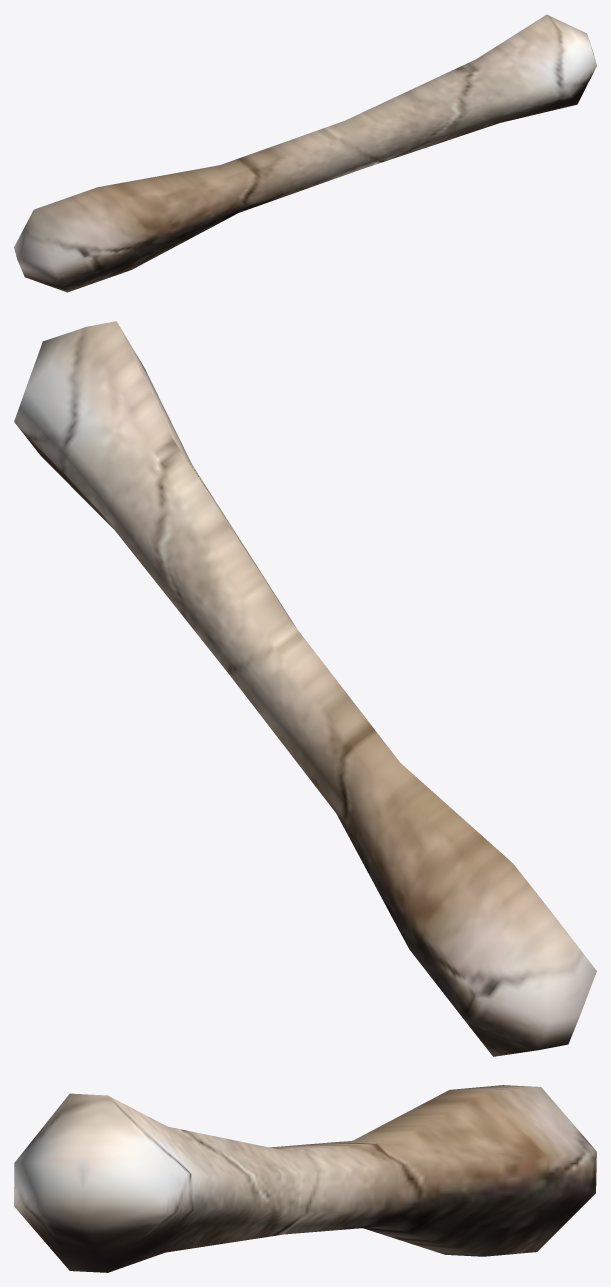
3 views of the same model, one above another, from view 1: azimuth 30°, elevation 25°; view 2: azimuth 150°, elevation 25°; view 3: azimuth 270°, elevation 25° (orthographic). The views are drawn at different scales.
Parts seen in each view (by area): view 1: model_Object31; view 2: model_Object31; view 3: model_Object31.
Boxes of the visible parts, x1=… form: model_Object31: x1=14, y1=14, x2=596, y2=292; model_Object31: x1=14, y1=321, x2=596, y2=1056; model_Object31: x1=14, y1=1085, x2=596, y2=1272.
Size of the model in its own units: 2.65 by 1.49 by 1.63.
1 material, 1 textured.
